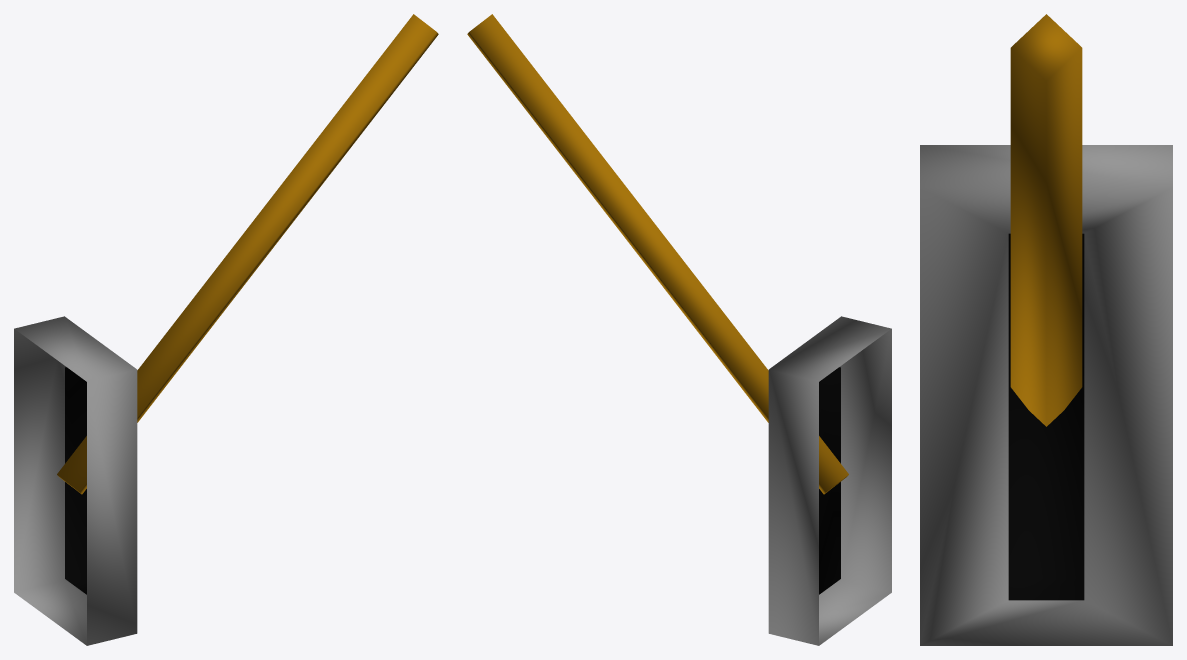
Rendered from levier.dae.
3 renders of one model, left to right at view 1: azimuth 30°, elevation 25°; view 2: azimuth 150°, elevation 25°; view 3: azimuth 270°, elevation 25°, orthographic. The views are drawn at different scales.
Visible parts, largest first — view 1: levier; view 2: levier; view 3: levier.
Boxes of the visible parts, <box> form: levier: <box>14,14,438,645</box>; levier: <box>467,14,891,645</box>; levier: <box>920,14,1172,645</box>.
Size of the model in its own units: 3.76 by 1.22 by 4.78.
